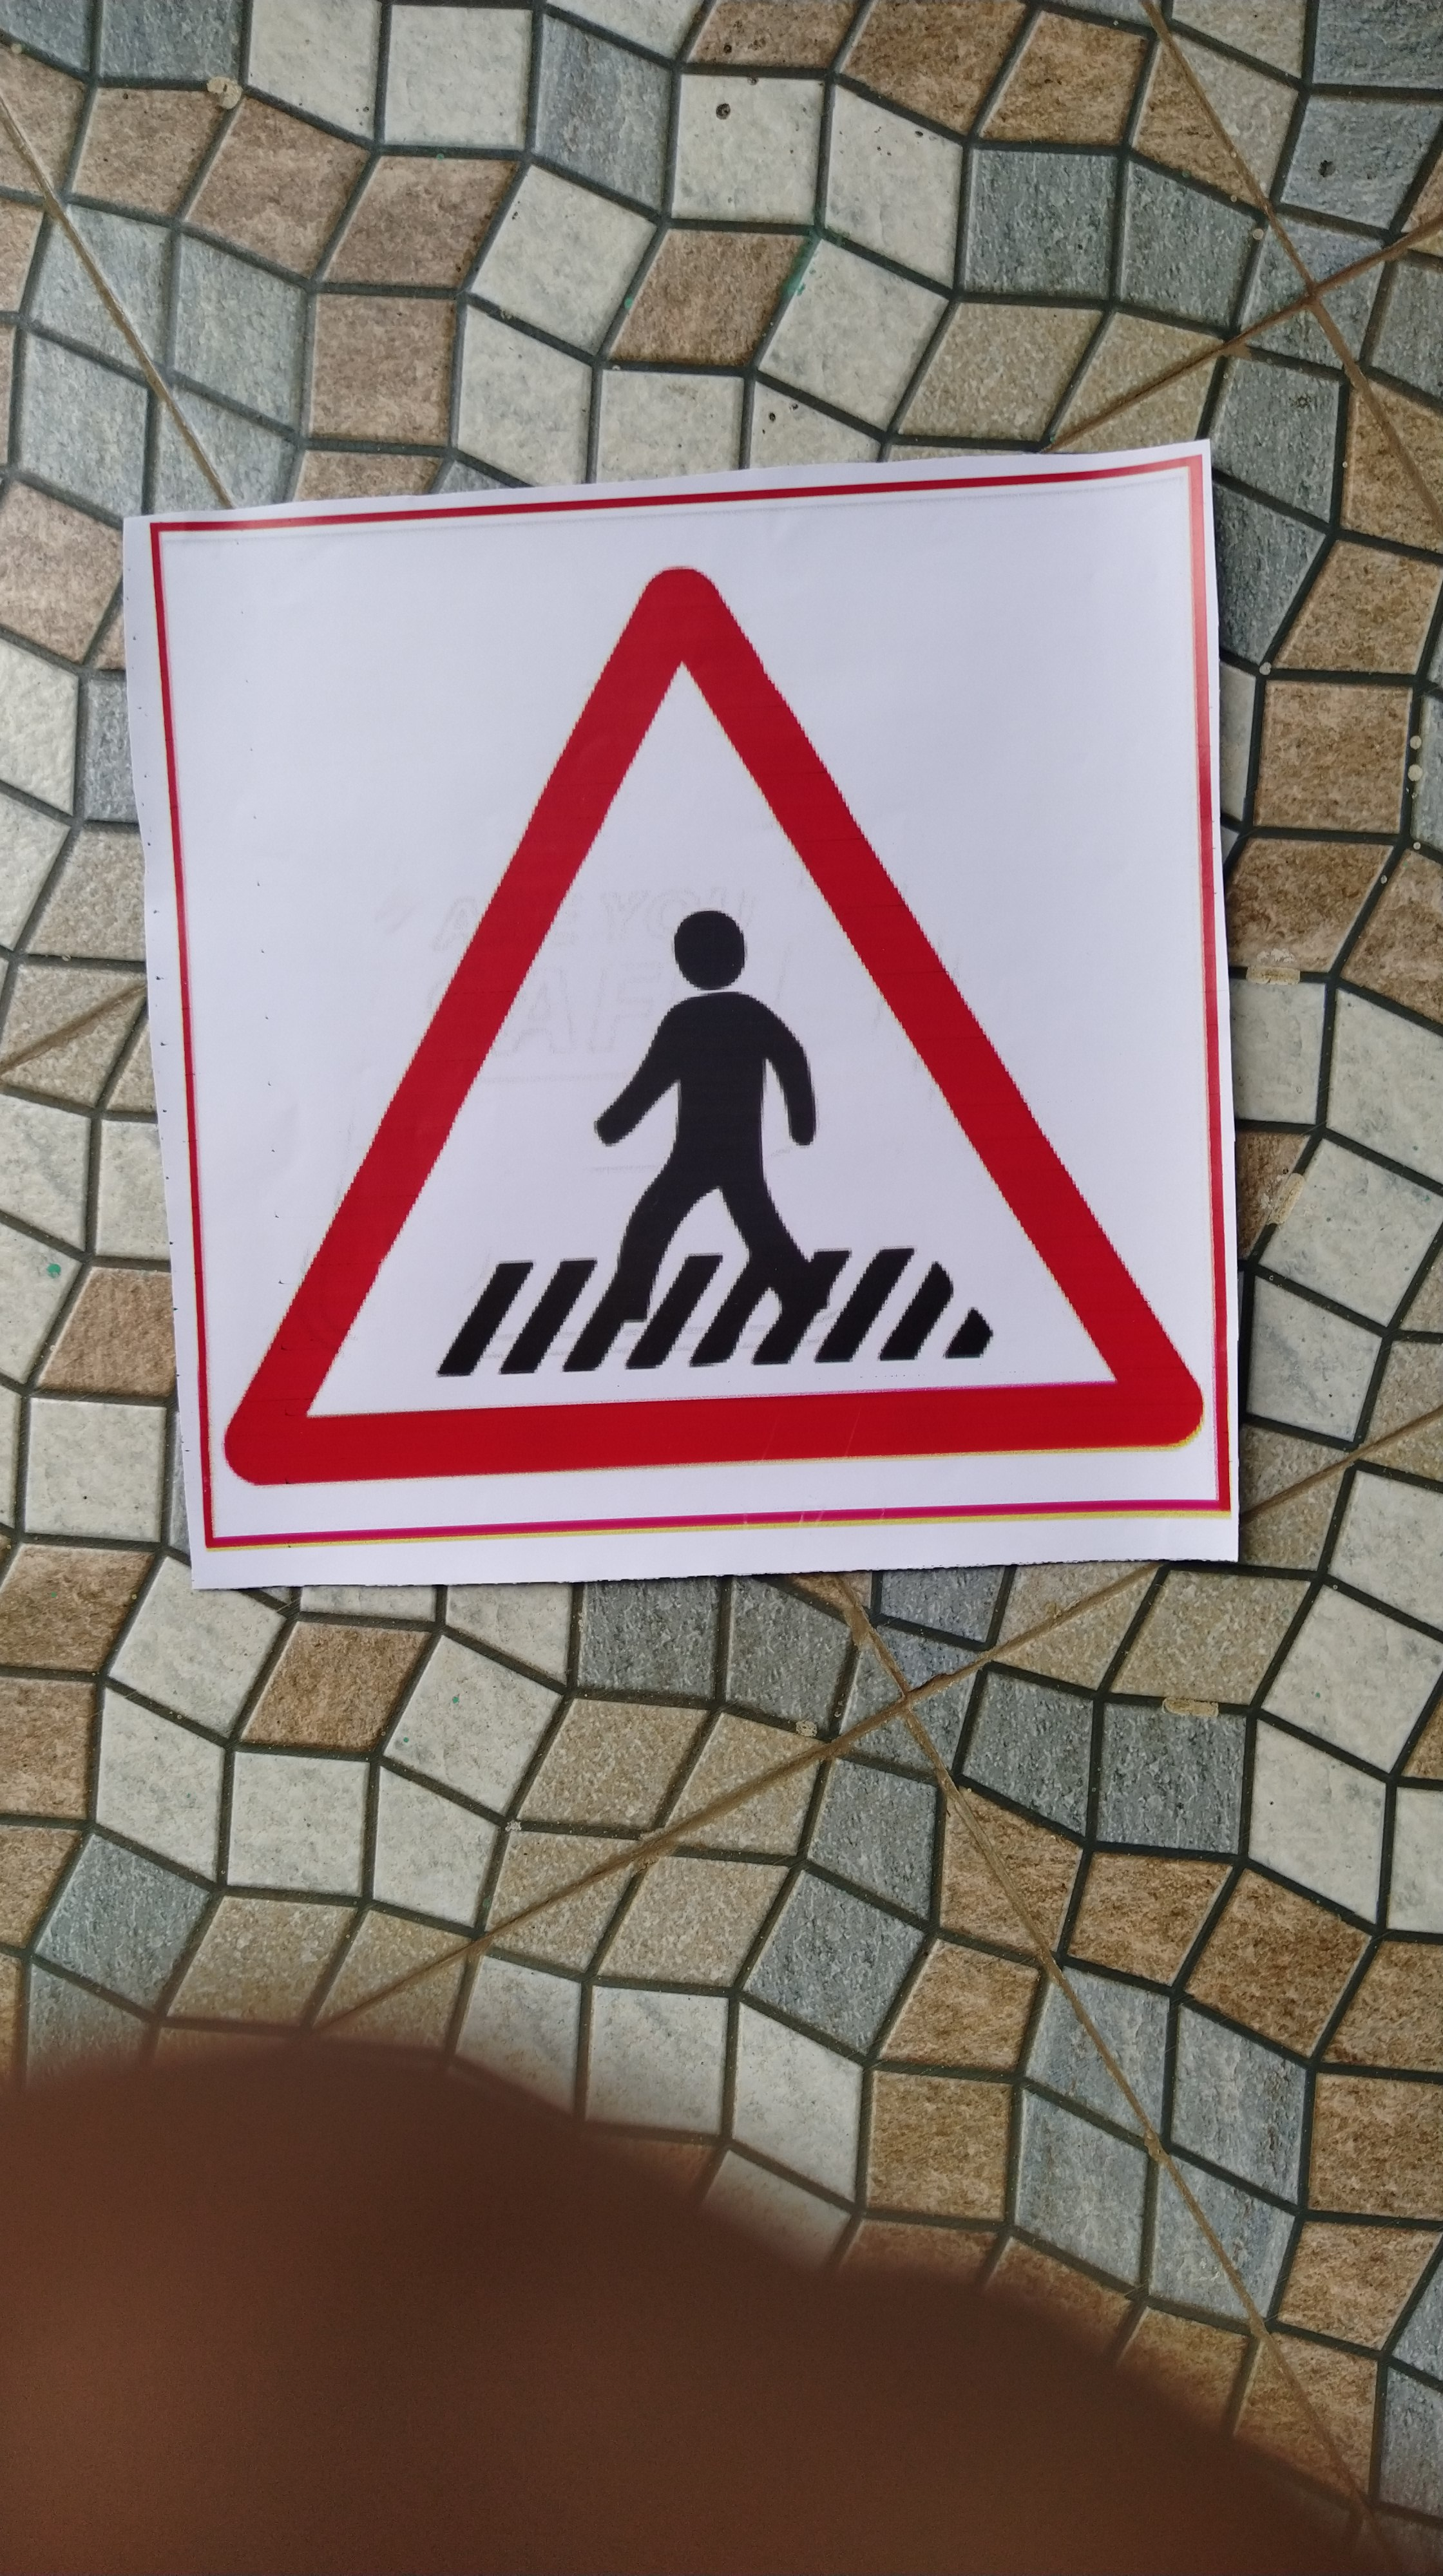pedestrain crossing: (170, 502, 1232, 1582)
